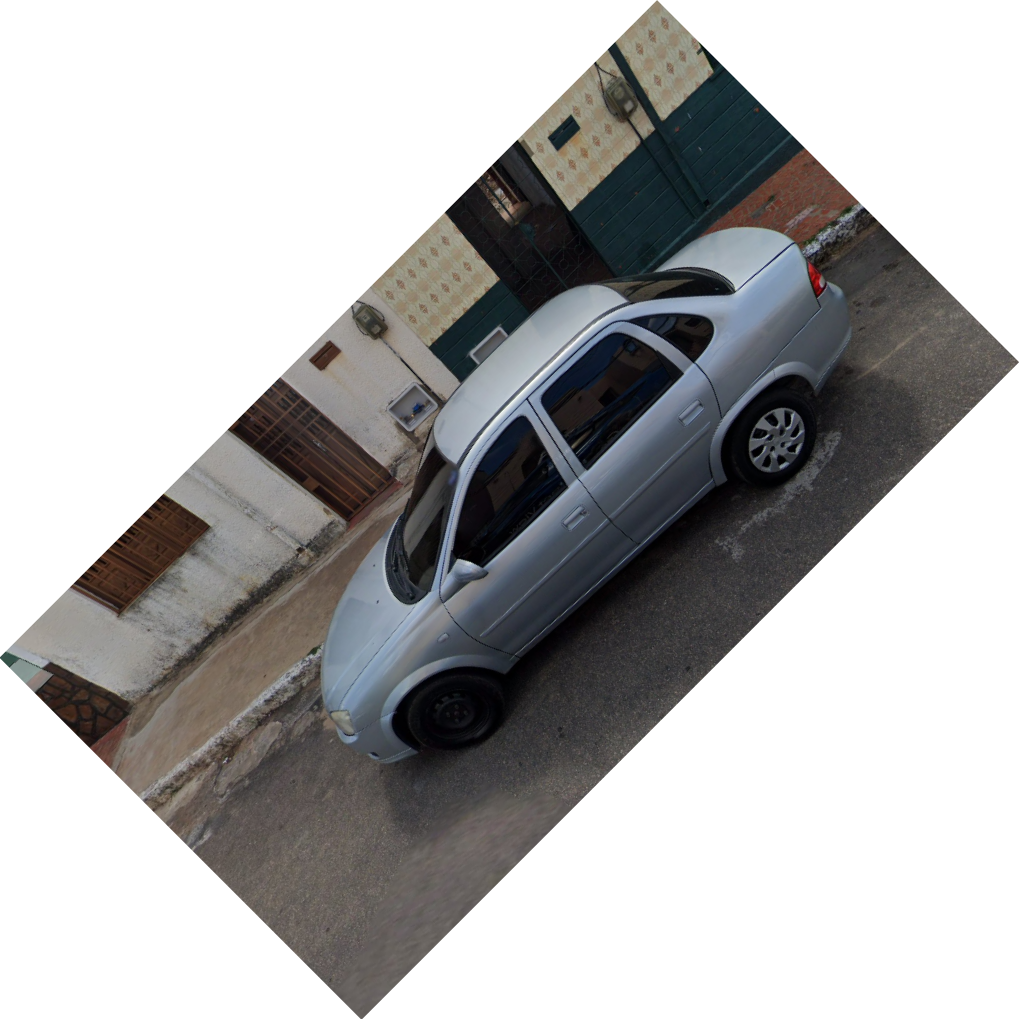car: (311, 218, 859, 795)
